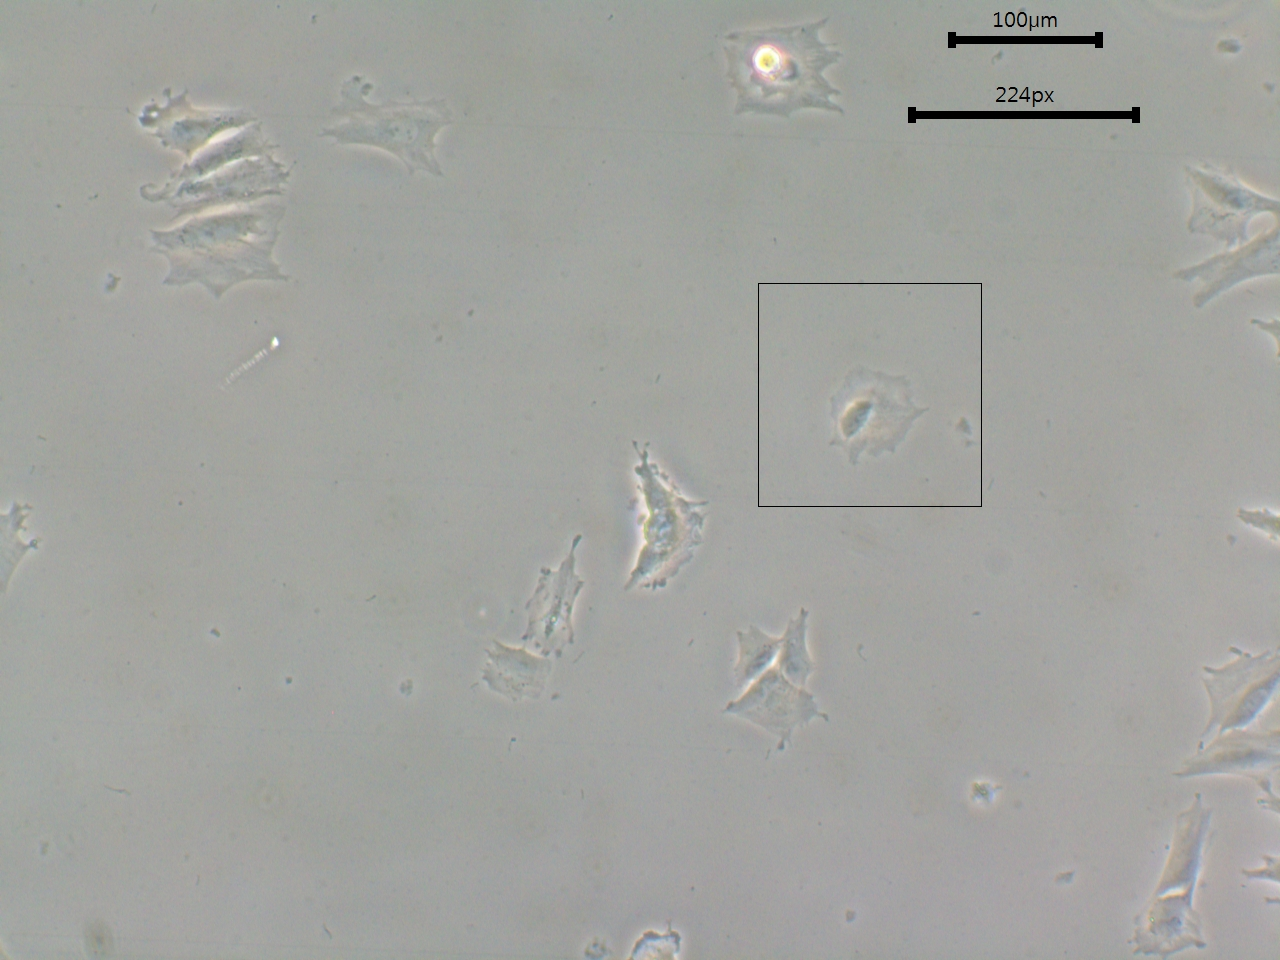medium-spread: (1130, 800, 1224, 960), (820, 367, 931, 466)
small-spread: (619, 441, 713, 610), (522, 535, 594, 659)
